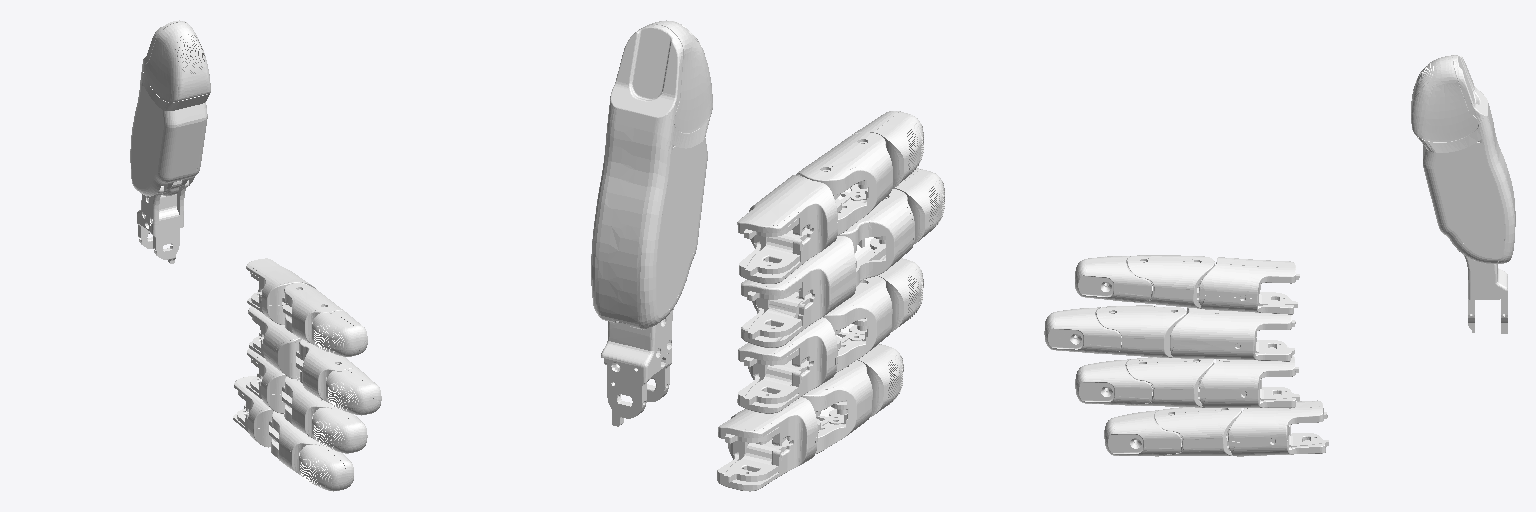
URDF robot description (CASIAHAND-M-Left):
<?xml version="1.0" encoding="utf-8"?>
<!-- This URDF was automatically created by SolidWorks to URDF Exporter! Originally created by Stephen Brawner (brawner@gmail.com) 
     Commit Version: 1.6.0-4-g7f85cfe  Build Version: 1.6.7995.38578
     For more information, please see http://wiki.ros.org/sw_urdf_exporter -->
<robot
  name="CASIAHAND-M-Left">

  <mujoco>
    <compiler strippath="false"/>
  </mujoco>

  <link name="world"/>
  <joint name="world_to_hand" type="fixed">
    <parent link="world"/>
    <child link="left_base_link"/>
    <origin xyz="0 0 0" rpy="-1.5707963 0 3.14"/>
  </joint>

  <link
    name="left_base_link">
    <inertial>
      <origin
        xyz="-0.000854991016682611 -0.000257228402210515 0.0500077757166512"
        rpy="0 0 0" />
      <mass
        value="0.0514107040832062" />
      <inertia
        ixx="4.58972179372524E-05"
        ixy="-1.12144174145678E-07"
        ixz="-9.61052812696276E-08"
        iyy="2.60102078283974E-05"
        iyz="2.95860547764011E-06"
        izz="2.63271307984813E-05" />
    </inertial>
    <visual>
      <origin
        xyz="0 0 0"
        rpy="0 0 0" />
      <geometry>
        <mesh
          filename="meshes/left_base_link.STL" />
      </geometry>
      <material
        name="">
        <color
          rgba="1 1 1 1" />
      </material>
    </visual>
    <collision>
      <origin
        xyz="0 0 0"
        rpy="0 0 0" />
      <geometry>
        <mesh
          filename="meshes/left_base_link.STL" />
      </geometry>
    </collision>
  </link>
  <link
    name="left_thumb_proximal_link">
    <inertial>
      <origin
        xyz="-0.000552582104696488 -0.0149645279978016 0.00352549828852867"
        rpy="0 0 0" />
      <mass
        value="0.00377122954042646" />
      <inertia
        ixx="3.88520843618089E-07"
        ixy="-3.74404206319318E-09"
        ixz="1.73776699899085E-09"
        iyy="1.50700161586162E-07"
        iyz="4.85518689418486E-08"
        izz="3.95256333130146E-07" />
    </inertial>
    <visual>
      <origin
        xyz="0 0 0"
        rpy="0 0 0" />
      <geometry>
        <mesh
          filename="meshes/left_thumb_proximal_link.STL" />
      </geometry>
      <material
        name="">
        <color
          rgba="1 1 1 1" />
      </material>
    </visual>
    <collision>
      <origin
        xyz="0 0 0"
        rpy="0 0 0" />
      <geometry>
        <mesh
          filename="meshes/left_thumb_proximal_link.STL" />
      </geometry>
    </collision>
  </link>
  <joint
    name="left_thumb_proximal"

    type="revolute">
    <origin
      xyz="0.0085316 -0.018144 0.021395"
      rpy="0 0 0" />
    <parent
      link="left_base_link" />
    <child
      link="left_thumb_proximal_link" />
    <axis
      xyz="0 0 1" />
    <limit
      lower="0"
      upper="1.57"
      effort="0"
      velocity="0" />
  </joint>
  <link
    name="left_thumb_intermediate_link">
    <inertial>
      <origin
        xyz="-0.00541939500623796 -0.0298399738073661 0.00389153374125404"
        rpy="0 0 0" />
      <mass
        value="0.0167704527690556" />
      <inertia
        ixx="5.76329043283654E-06"
        ixy="3.42044212701997E-09"
        ixz="-4.27526374583653E-11"
        iyy="2.21383731467801E-06"
        iyz="1.48556742604518E-06"
        izz="5.11880278241463E-06" />
    </inertial>
    <visual>
      <origin
        xyz="0 0 0"
        rpy="0 0 0" />
      <geometry>
        <mesh
          filename="meshes/left_thumb_intermediate_link.STL" />
      </geometry>
      <material
        name="">
        <color
          rgba="1 1 1 1" />
      </material>
    </visual>
    <collision>
      <origin
        xyz="0 0 0"
        rpy="0 0 0" />
      <geometry>
        <mesh
          filename="meshes/left_thumb_intermediate_link.STL" />
      </geometry>
    </collision>
  </link>
  <joint
    name="left_thumb_intermediate"
    type="revolute">
    <origin
      xyz="0.0048 -0.031252 0.0076698"
      rpy="0 0 0" />
    <parent
      link="left_thumb_proximal_link" />
    <child
      link="left_thumb_intermediate_link" />
    <axis
      xyz="-1 0 0" />
    <limit
      lower="0"
      upper="1.57"
      effort="0"
      velocity="0" />
  </joint>
  <link
    name="left_index_proximal_link">
    <inertial>
      <origin
        xyz="-0.00127245804911742 -0.00231182165067662 0.013273801644204"
        rpy="0 0 0" />
      <mass
        value="0.00492232791218433" />
      <inertia
        ixx="5.50776683023351E-07"
        ixy="-2.11493453052751E-10"
        ixz="9.47528644598643E-09"
        iyy="5.28461166744882E-07"
        iyz="1.36691315976646E-10"
        izz="2.65286467722634E-07" />
    </inertial>
    <visual>
      <origin
        xyz="0 0 0"
        rpy="0 0 0" />
      <geometry>
        <mesh
          filename="meshes/left_index_proximal_link.STL" />
      </geometry>
      <material
        name="">
        <color
          rgba="1 1 1 1" />
      </material>
    </visual>
    <collision>
      <origin
        xyz="0 0 0"
        rpy="0 0 0" />
      <geometry>
        <mesh
          filename="meshes/left_index_proximal_link.STL" />
      </geometry>
    </collision>
  </link>
  <joint
    name="left_index_proximal"

    type="revolute">
    <origin
      xyz="0.004443 -0.026839 0.10332"
      rpy="0.05236 0 0" />
    <parent
      link="left_base_link" />
    <child
      link="left_index_proximal_link" />
    <axis
      xyz="0 1 0" />
    <limit
      lower="0"
      upper="1.57"
      effort="0"
      velocity="0" />
  </joint>
  <link
    name="left_index_intermediate_link">
    <inertial>
      <origin
        xyz="-0.00235250834276566 0.0110173002188844 -0.0726432920341479"
        rpy="0 0 0" />
      <mass
        value="0.0908251459876905" />
      <inertia
        ixx="0.000303763583614175"
        ixy="7.81703028625578E-06"
        ixz="7.52663611792488E-07"
        iyy="0.000180065028763445"
        iyz="-4.04651993340822E-05"
        izz="0.000154631440859186" />
    </inertial>
    <visual>
      <origin
        xyz="0 0 0"
        rpy="0 0 0" />
      <geometry>
        <mesh
          filename="meshes/left_index_intermediate_link.STL" />
      </geometry>
      <material
        name="">
        <color
          rgba="1 1 1 1" />
      </material>
    </visual>
    <collision>
      <origin
        xyz="0 0 0"
        rpy="0 0 0" />
      <geometry>
        <mesh
          filename="meshes/left_index_intermediate_link.STL" />
      </geometry>
    </collision>
  </link>
  <joint
    name="left_index_intermediate"

    type="revolute">
    <origin
      xyz="0 -0.0020239 0.03"
      rpy="0 0 0" />
    <parent
      link="left_index_proximal_link" />
    <child
      link="left_index_intermediate_link" />
    <axis
      xyz="0 1 0" />
    <limit
      lower="0"
      upper="1.57"
      effort="0"
      velocity="0" />
  </joint>
  <link
    name="left_index_distal_link">
    <inertial>
      <origin
        xyz="0.00149707873276508 -0.000369375277227389 0.0125050934010268"
        rpy="0 0 0" />
      <mass
        value="0.000998955642088979" />
      <inertia
        ixx="4.8304674746648E-08"
        ixy="-2.48061324559513E-10"
        ixz="7.15318605841035E-09"
        iyy="3.99362418439564E-08"
        iyz="-1.50680565796625E-10"
        izz="2.31484166338509E-08" />
    </inertial>
    <visual>
      <origin
        xyz="0 0 0"
        rpy="0 0 0" />
      <geometry>
        <mesh
          filename="meshes/left_index_distal_link.STL" />
      </geometry>
      <material
        name="">
        <color
          rgba="1 1 1 1" />
      </material>
    </visual>
    <collision>
      <origin
        xyz="0 0 0"
        rpy="0 0 0" />
      <geometry>
        <mesh
          filename="meshes/left_index_distal_link.STL" />
      </geometry>
    </collision>
  </link>
  <joint
    name="left_index_distal"

    type="revolute">
    <origin
      xyz="0 0 0.02"
      rpy="0 0 0" />
    <parent
      link="left_index_intermediate_link" />
    <child
      link="left_index_distal_link" />
    <axis
      xyz="0 1 0" />
    <limit
      lower="0"
      upper="0.785"
      effort="0"
      velocity="0" />
  </joint>
  <link
    name="left_middle_proximal_link">
    <inertial>
      <origin
        xyz="-0.00235250839728617 -0.0090584232571352 -0.0431969652037006"
        rpy="0 0 0" />
      <mass
        value="0.0908251459876905" />
      <inertia
        ixx="0.000303763583614185"
        ixy="7.78600078129173E-06"
        ixz="1.02501553213085E-06"
        iyy="0.000182856760907443"
        iyz="-3.94795494388342E-05"
        izz="0.000151839708715176" />
    </inertial>
    <visual>
      <origin
        xyz="0 0 0"
        rpy="0 0 0" />
      <geometry>
        <mesh
          filename="meshes/left_middle_proximal_link.STL" />
      </geometry>
      <material
        name="">
        <color
          rgba="1 1 1 1" />
      </material>
    </visual>
    <collision>
      <origin
        xyz="0 0 0"
        rpy="0 0 0" />
      <geometry>
        <mesh
          filename="meshes/left_middle_proximal_link.STL" />
      </geometry>
    </collision>
  </link>
  <joint
    name="left_middle_proximal"

    type="revolute">
    <origin
      xyz="0.004443 -0.0073228 0.10455"
      rpy="0.017453 0 0" />
    <parent
      link="left_base_link" />
    <child
      link="left_middle_proximal_link" />
    <axis
      xyz="0 1 0" />
    <limit
      lower="0"
      upper="1.57"
      effort="0"
      velocity="0" />
  </joint>
  <link
    name="left_middle_intermediate_link">
    <inertial>
      <origin
        xyz="3.72071412872038E-07 0.00136209164548745 -9.60580628095453E-08"
        rpy="0 0 0" />
      <mass
        value="0.000110030710706044" />
      <inertia
        ixx="2.1921743495488E-09"
        ixy="-2.41160686084553E-13"
        ixz="2.32745038509488E-14"
        iyy="1.64027542744508E-10"
        iyz="3.81635723172743E-14"
        izz="2.18235418789324E-09" />
    </inertial>
    <visual>
      <origin
        xyz="0 0 0"
        rpy="0 0 0" />
      <geometry>
        <mesh
          filename="meshes/left_middle_intermediate_link.STL" />
      </geometry>
      <material
        name="">
        <color
          rgba="1 1 1 1" />
      </material>
    </visual>
    <collision>
      <origin
        xyz="0 0 0"
        rpy="0 0 0" />
      <geometry>
        <mesh
          filename="meshes/left_middle_intermediate_link.STL" />
      </geometry>
    </collision>
  </link>
  <joint
    name="left_middle_intermediate"
    type="revolute">
    <origin
      xyz="0 -0.000921 0.037"
      rpy="0 0 0" />
    <parent
      link="left_middle_proximal_link" />
    <child
      link="left_middle_intermediate_link" />
    <axis
      xyz="0 1 0" />
    <limit
      lower="0"
      upper="1.57"
      effort="0"
      velocity="0" />
  </joint>
  <link
    name="left_middle_distal_link">
    <inertial>
      <origin
        xyz="0.00149710455829099 -0.000384157252812937 0.0125050683560225"
        rpy="0 0 0" />
      <mass
        value="0.000998947087859001" />
      <inertia
        ixx="4.83037191946594E-08"
        ixy="-2.48279659823295E-10"
        ixz="7.15279228858446E-09"
        iyy="3.99352853841619E-08"
        iyz="-1.50420402164892E-10"
        izz="2.31483523972054E-08" />
    </inertial>
    <visual>
      <origin
        xyz="0 0 0"
        rpy="0 0 0" />
      <geometry>
        <mesh
          filename="meshes/left_middle_distal_link.STL" />
      </geometry>
      <material
        name="">
        <color
          rgba="1 1 1 1" />
      </material>
    </visual>
    <collision>
      <origin
        xyz="0 0 0"
        rpy="0 0 0" />
      <geometry>
        <mesh
          filename="meshes/left_middle_distal_link.STL" />
      </geometry>
    </collision>
  </link>
  <joint
    name="left_middle_distal"
    type="revolute">
    <origin
      xyz="0 -0.000975 0.023"
      rpy="0 0 0" />
    <parent
      link="left_middle_intermediate_link" />
    <child
      link="left_middle_distal_link" />
    <axis
      xyz="0 1 0" />
    <limit
      lower="0"
      upper="0.785"
      effort="0"
      velocity="0" />
  </joint>
  <link
    name="left_ring_proximal_link">
    <inertial>
      <origin
        xyz="-0.00127246504213531 -0.00231181801155401 0.0132738051436844"
        rpy="0 0 0" />
      <mass
        value="0.00492232838824914" />
      <inertia
        ixx="5.5077674612546E-07"
        ixy="-2.11354317926005E-10"
        ixz="9.47540355313897E-09"
        iyy="5.28461321438614E-07"
        iyz="1.36864602868638E-10"
        izz="2.65286327789821E-07" />
    </inertial>
    <visual>
      <origin
        xyz="0 0 0"
        rpy="0 0 0" />
      <geometry>
        <mesh
          filename="meshes/left_ring_proximal_link.STL" />
      </geometry>
      <material
        name="">
        <color
          rgba="1 1 1 1" />
      </material>
    </visual>
    <collision>
      <origin
        xyz="0 0 0"
        rpy="0 0 0" />
      <geometry>
        <mesh
          filename="meshes/left_ring_proximal_link.STL" />
      </geometry>
    </collision>
  </link>
  <joint
    name="left_ring_proximal"
    type="revolute">
    <origin
      xyz="0.004443 0.012168 0.10287"
      rpy="-0.017453 0 0" />
    <parent
      link="left_base_link" />
    <child
      link="left_ring_proximal_link" />
    <axis
      xyz="0 1 0" />
    <limit
      lower="0"
      upper="1.57"
      effort="0"
      velocity="0" />
  </joint>
  <link
    name="left_ring_intermediate_link">
    <inertial>
      <origin
        xyz="-0.00235250834276136 -0.0250383368618629 -0.0721482308636583"
        rpy="0 0 0" />
      <mass
        value="0.0908251459876905" />
      <inertia
        ixx="0.000303763583614175"
        ixy="7.74548523388602E-06"
        ixz="1.29611862898635E-06"
        iyy="0.000185572937071199"
        iyz="-3.83015591472008E-05"
        izz="0.000149123532551432" />
    </inertial>
    <visual>
      <origin
        xyz="0 0 0"
        rpy="0 0 0" />
      <geometry>
        <mesh
          filename="meshes/left_ring_intermediate_link.STL" />
      </geometry>
      <material
        name="">
        <color
          rgba="1 1 1 1" />
      </material>
    </visual>
    <collision>
      <origin
        xyz="0 0 0"
        rpy="0 0 0" />
      <geometry>
        <mesh
          filename="meshes/left_ring_intermediate_link.STL" />
      </geometry>
    </collision>
  </link>
  <joint
    name="left_ring_intermediate"

    type="revolute">
    <origin
      xyz="0 -0.0020239 0.03"
      rpy="0 0 0" />
    <parent
      link="left_ring_proximal_link" />
    <child
      link="left_ring_intermediate_link" />
    <axis
      xyz="0 1 0" />
    <limit
      lower="0"
      upper="1.57"
      effort="0"
      velocity="0" />
  </joint>
  <link
    name="left_ring_distal_link">
    <inertial>
      <origin
        xyz="0.0014972391193363 -0.000369203214937263 0.0125048143950739"
        rpy="0 0 0" />
      <mass
        value="0.000998947285398605" />
      <inertia
        ixx="4.83024125555873E-08"
        ixy="-2.49534978453918E-10"
        ixz="7.15296209218144E-09"
        iyy="3.99342317300672E-08"
        iyz="-1.48034373390099E-10"
        izz="2.31490303803012E-08" />
    </inertial>
    <visual>
      <origin
        xyz="0 0 0"
        rpy="0 0 0" />
      <geometry>
        <mesh
          filename="meshes/left_ring_distal_link.STL" />
      </geometry>
      <material
        name="">
        <color
          rgba="1 1 1 1" />
      </material>
    </visual>
    <collision>
      <origin
        xyz="0 0 0"
        rpy="0 0 0" />
      <geometry>
        <mesh
          filename="meshes/left_ring_distal_link.STL" />
      </geometry>
    </collision>
  </link>
  <joint
    name="left_ring_distal"
    type="revolute">
    <origin
      xyz="0 0 0.02"
      rpy="0 0 0" />
    <parent
      link="left_ring_intermediate_link" />
    <child
      link="left_ring_distal_link" />
    <axis
      xyz="0 1 0" />
    <limit
      lower="0"
      upper="0.785"
      effort="0"
      velocity="0" />
  </joint>
  <link
    name="left_pinky_proximal_link">
    <inertial>
      <origin
        xyz="-0.00127246546086286 -0.00220032227773351 0.0132738081437772"
        rpy="0 0 0" />
      <mass
        value="0.0049223320912195" />
      <inertia
        ixx="5.50777064929736E-07"
        ixy="-2.08239078714539E-10"
        ixz="9.47549899717493E-09"
        iyy="5.28461719583601E-07"
        iyz="5.40728262264455E-11"
        izz="2.65286453685049E-07" />
    </inertial>
    <visual>
      <origin
        xyz="0 0 0"
        rpy="0 0 0" />
      <geometry>
        <mesh
          filename="meshes/left_pinky_proximal_link.STL" />
      </geometry>
      <material
        name="">
        <color
          rgba="1 1 1 1" />
      </material>
    </visual>
    <collision>
      <origin
        xyz="0 0 0"
        rpy="0 0 0" />
      <geometry>
        <mesh
          filename="meshes/left_pinky_proximal_link.STL" />
      </geometry>
    </collision>
  </link>
  <joint
    name="left_pinky_proximal"
    type="revolute">
    <origin
      xyz="0.004443 0.031174 0.091977"
      rpy="-0.05236 0 0" />
    <parent
      link="left_base_link" />
    <child
      link="left_pinky_proximal_link" />
    <axis
      xyz="0 1 0" />
    <limit
      lower="0"
      upper="1.57"
      effort="0"
      velocity="0" />
  </joint>
  <link
    name="left_pinky_intermediate_link">
    <inertial>
      <origin
        xyz="-0.00235250834406817 -0.043198154871919 -0.0631957980997593"
        rpy="0 0 0" />
      <mass
        value="0.0908251459876905" />
      <inertia
        ixx="0.000303763583614136"
        ixy="7.6950390070076E-06"
        ixz="1.56806877852496E-06"
        iyy="0.000188223611180468"
        iyz="-3.69238116533962E-05"
        izz="0.000146472858442201" />
    </inertial>
    <visual>
      <origin
        xyz="0 0 0"
        rpy="0 0 0" />
      <geometry>
        <mesh
          filename="meshes/left_pinky_intermediate_link.STL" />
      </geometry>
      <material
        name="">
        <color
          rgba="1 1 1 1" />
      </material>
    </visual>
    <collision>
      <origin
        xyz="0 0 0"
        rpy="0 0 0" />
      <geometry>
        <mesh
          filename="meshes/left_pinky_intermediate_link.STL" />
      </geometry>
    </collision>
  </link>
  <joint
    name="left_pinky_intermediate"
    type="revolute">
    <origin
      xyz="0 -0.0019071 0.03"
      rpy="-0.00031528 0 0" />
    <parent
      link="left_pinky_proximal_link" />
    <child
      link="left_pinky_intermediate_link" />
    <axis
      xyz="0 1 0" />
    <limit
      lower="0"
      upper="1.57"
      effort="0"
      velocity="0" />
  </joint>
  <link
    name="left_pinky_distal_link">
    <inertial>
      <origin
        xyz="0.00149724142010176 -0.000369198929496089 0.012504817552931"
        rpy="0 0 0" />
      <mass
        value="0.000998948373166862" />
      <inertia
        ixx="4.83024501049304E-08"
        ixy="-2.49581019581133E-10"
        ixz="7.15299686475207E-09"
        iyy="3.99342842714541E-08"
        iyz="-1.47966899350705E-10"
        izz="2.31490759370915E-08" />
    </inertial>
    <visual>
      <origin
        xyz="0 0 0"
        rpy="0 0 0" />
      <geometry>
        <mesh
          filename="meshes/left_pinky_distal_link.STL" />
      </geometry>
      <material
        name="">
        <color
          rgba="1 1 1 1" />
      </material>
    </visual>
    <collision>
      <origin
        xyz="0 0 0"
        rpy="0 0 0" />
      <geometry>
        <mesh
          filename="meshes/left_pinky_distal_link.STL" />
      </geometry>
    </collision>
  </link>
  <joint
    name="left_pinky_distal"
    type="revolute">
    <origin
      xyz="0 0 0.02"
      rpy="0 0 0" />
    <parent
      link="left_pinky_intermediate_link" />
    <child
      link="left_pinky_distal_link" />
    <axis
      xyz="0 1 0" />
    <limit
      lower="0"
      upper="0.785"
      effort="0"
      velocity="0" />
  </joint>

  <link name="left_thumb_tip_head"/>
  <link name="left_index_tip_head"/>
  <link name="left_middle_tip_head"/>
  <link name="left_ring_tip_head"/>
  <link name="left_pinky_tip_head"/>

  <joint name="thumb_tip" type="fixed">
    <parent link="left_thumb_intermediate_link"/>
    <child link="left_thumb_tip_head"/>
    <origin rpy="0 0 0" xyz="0.005 -0.06 0.032"/>
  </joint>
  <joint name="index_tip" type="fixed">
    <parent link="left_index_distal_link"/>
    <child link="left_index_tip_head"/>
    <origin rpy="0 0 0" xyz="0.0 0.004 0.026"/>
  </joint>
  <joint name="middle_tip" type="fixed">
    <parent link="left_middle_distal_link"/>
    <child link="left_middle_tip_head"/>
    <origin rpy="0 0 0" xyz="0.0 -0.004 0.026"/>
  </joint>
  <joint name="ring_tip" type="fixed">
    <parent link="left_ring_distal_link"/>
    <child link="left_ring_tip_head"/>
    <origin rpy="0 0 0" xyz="0.0 0.004 0.026"/>
  </joint>
  <joint name="pinky_tip" type="fixed">
    <parent link="left_pinky_distal_link"/>
    <child link="left_pinky_tip_head"/>
    <origin rpy="0 0 0" xyz="0.0 -0.002 0.026"/>
  </joint>
</robot>

--- Render facts (derived) ---
The picture shows the robot from 3 angles, left to right: view 1: azimuth 30°, elevation 25°; view 2: azimuth 150°, elevation 25°; view 3: azimuth 270°, elevation 25°; orthographic projection.
Model CASIAHAND-M-Left with 21 links and 20 joints (14 revolute, 6 fixed), rooted at world, posed all joints at 0.
Links seen in each view (by area): view 1: left_thumb_intermediate_link, left_thumb_proximal_link, left_index_proximal_link, left_middle_proximal_link, left_middle_distal_link, left_index_distal_link, left_ring_distal_link, left_pinky_distal_link, left_index_intermediate_link, left_middle_intermediate_link, left_pinky_proximal_link, left_ring_proximal_link (+2 smaller); view 2: left_thumb_intermediate_link, left_index_proximal_link, left_middle_proximal_link, left_pinky_proximal_link, left_ring_proximal_link, left_thumb_proximal_link, left_index_intermediate_link, left_middle_intermediate_link, left_ring_intermediate_link, left_pinky_intermediate_link, left_index_distal_link, left_middle_distal_link (+2 smaller); view 3: left_thumb_intermediate_link, left_middle_proximal_link, left_index_proximal_link, left_pinky_proximal_link, left_ring_proximal_link, left_middle_intermediate_link, left_index_intermediate_link, left_ring_intermediate_link, left_pinky_intermediate_link, left_index_distal_link, left_ring_distal_link, left_middle_distal_link (+2 smaller).
Boxes of the visible links, x1,y1,x2,y2 form: left_thumb_intermediate_link: (130,20,210,196); left_thumb_proximal_link: (137,180,188,263); left_index_proximal_link: (246,258,315,324); left_middle_proximal_link: (248,306,304,378); left_middle_distal_link: (326,367,381,415); left_index_distal_link: (312,311,367,356); left_ring_distal_link: (312,407,367,453); left_pinky_distal_link: (299,444,353,491); left_index_intermediate_link: (284,283,343,344); left_middle_intermediate_link: (299,339,356,402); left_pinky_proximal_link: (233,376,278,447); left_ring_proximal_link: (246,348,291,413); left_thumb_intermediate_link: (591,20,712,329); left_index_proximal_link: (737,175,841,283); left_middle_proximal_link: (741,236,856,347); left_pinky_proximal_link: (717,397,820,491); left_ring_proximal_link: (737,317,840,413); left_thumb_proximal_link: (601,308,673,426); left_index_intermediate_link: (796,132,892,234); left_middle_intermediate_link: (838,189,914,286); left_ring_intermediate_link: (823,276,892,372); left_pinky_intermediate_link: (802,360,872,453); left_index_distal_link: (846,111,923,188); left_middle_distal_link: (874,168,944,243); left_thumb_intermediate_link: (1411,55,1515,263); left_middle_proximal_link: (1170,308,1295,361); left_index_proximal_link: (1197,257,1299,314); left_pinky_proximal_link: (1226,400,1328,456); left_ring_proximal_link: (1198,355,1299,407); left_middle_intermediate_link: (1096,305,1186,357); left_index_intermediate_link: (1127,255,1214,308); left_ring_intermediate_link: (1126,357,1213,407); left_pinky_intermediate_link: (1154,407,1241,455); left_index_distal_link: (1075,256,1151,301); left_ring_distal_link: (1075,359,1152,405); left_middle_distal_link: (1044,307,1121,353).
Size in the robot's own frame: 0.0249 by 0.1768 by 0.1623 metres.
Meshes: 15 distinct files referenced, 14 mesh visuals loaded (14 binary STL); not drawn: 1 (reference not matched to a file when rendering).
